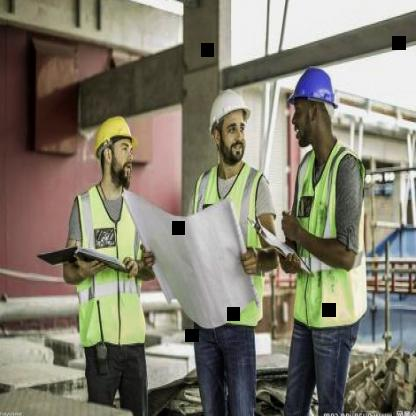helmet: (286, 60, 342, 152), (88, 110, 138, 184), (207, 86, 253, 166)
